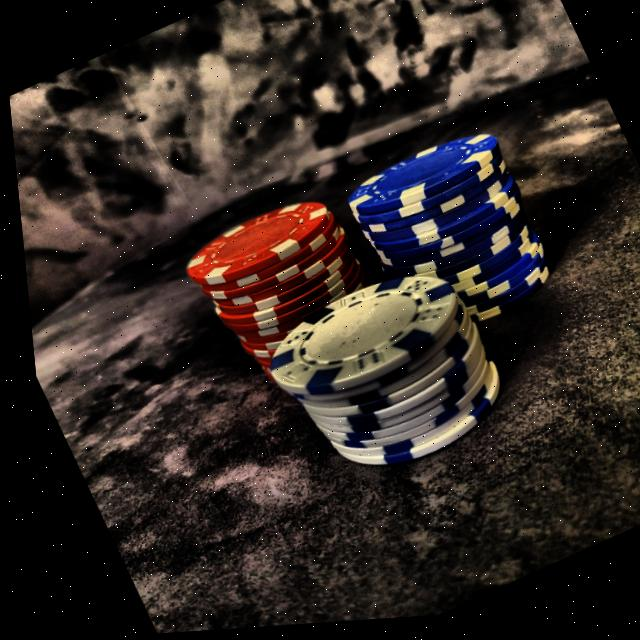Chip: (222, 225, 532, 529), (325, 106, 573, 375), (156, 159, 393, 395)
